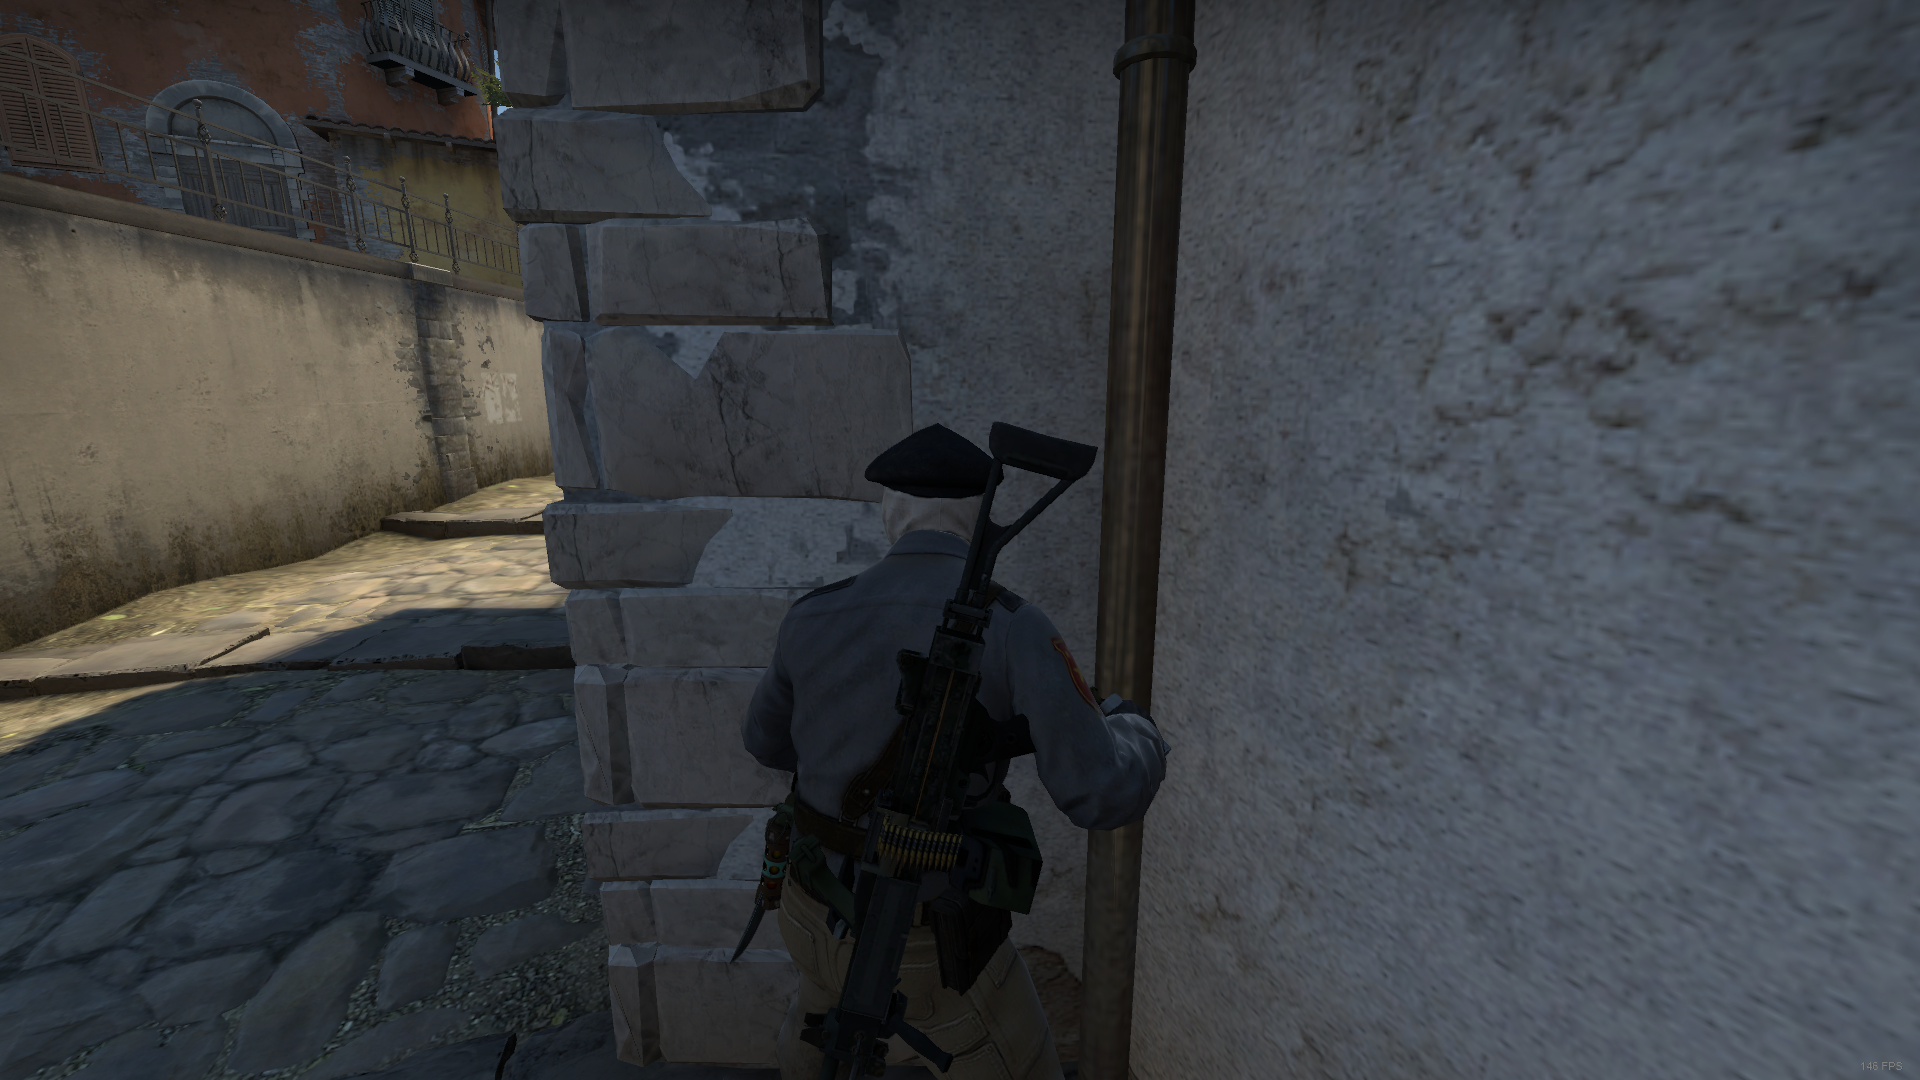t: (731, 415, 1168, 1080)
